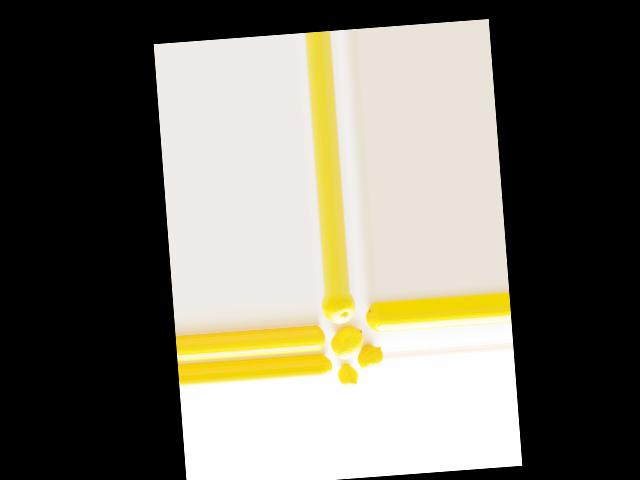lemon: (362, 306, 382, 337)
